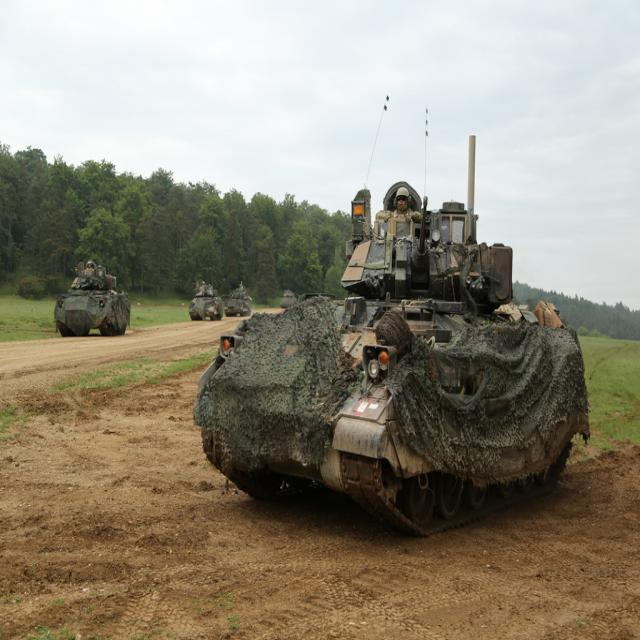tank: (191, 92, 589, 537), (52, 250, 132, 336), (188, 274, 223, 320), (222, 282, 250, 319)
